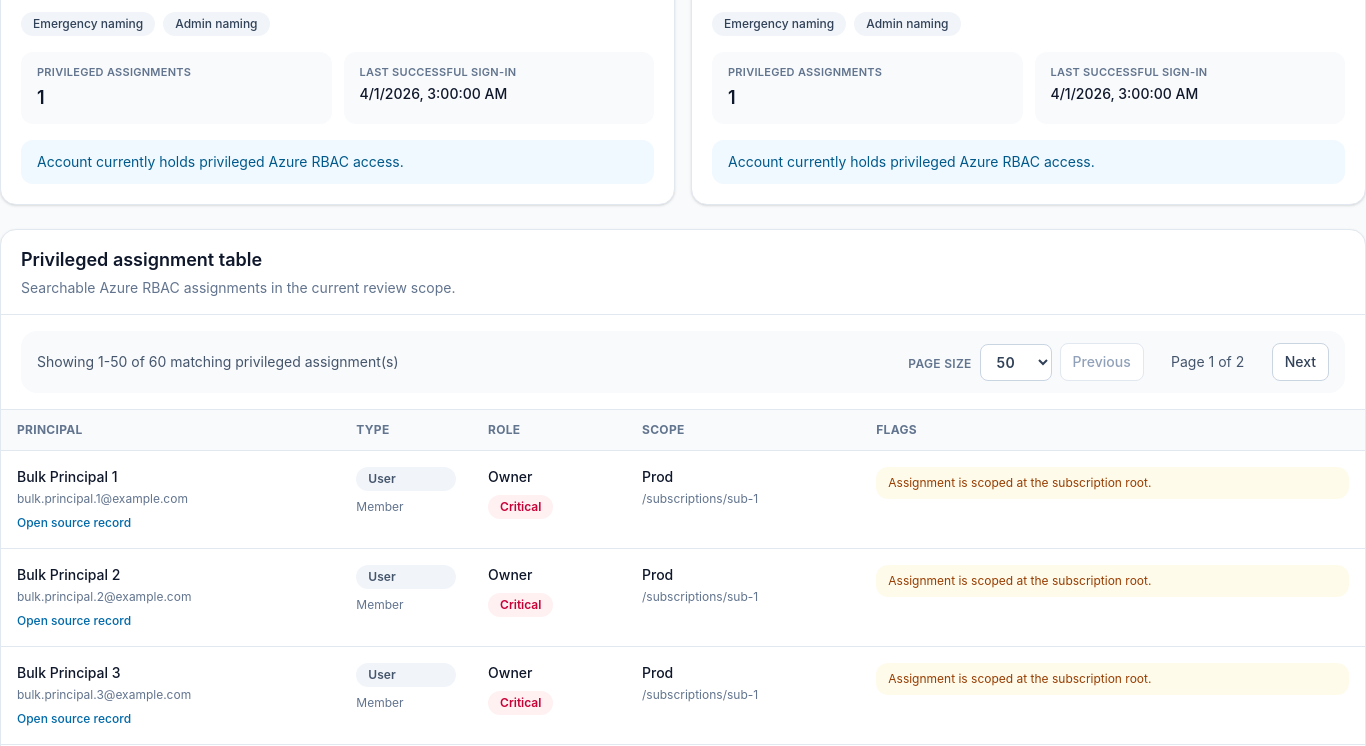
Test: AzureSecurityAccessReviewPage › pages large access-review queues instead of rendering the whole dataset at once
(page scrolled)
Expected: the heading "Privileged assignment table" is shown, left=21, top=249, right=262, bottom=270
Expected: the text "Showing 1-50 of 60 matching privileged assignment(s)" is shown, left=37, top=352, right=398, bottom=372
What coordinates should you click on to do the following:
click the button "Next"
I would click on:
 (1300, 362)
Its box is left=1272, top=343, right=1329, bottom=381.
(page scrolled)
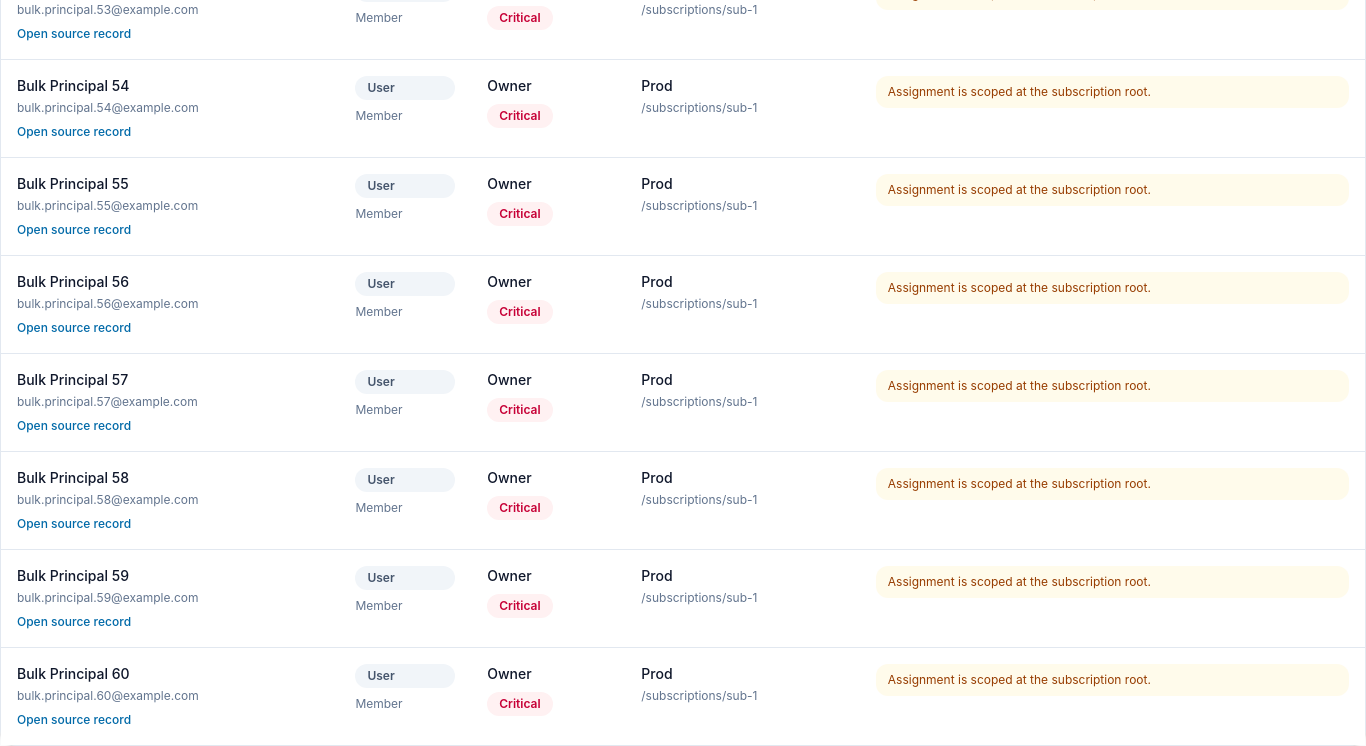
Expected: the text "Bulk Principal 60" is shown, left=17, top=665, right=130, bottom=682
